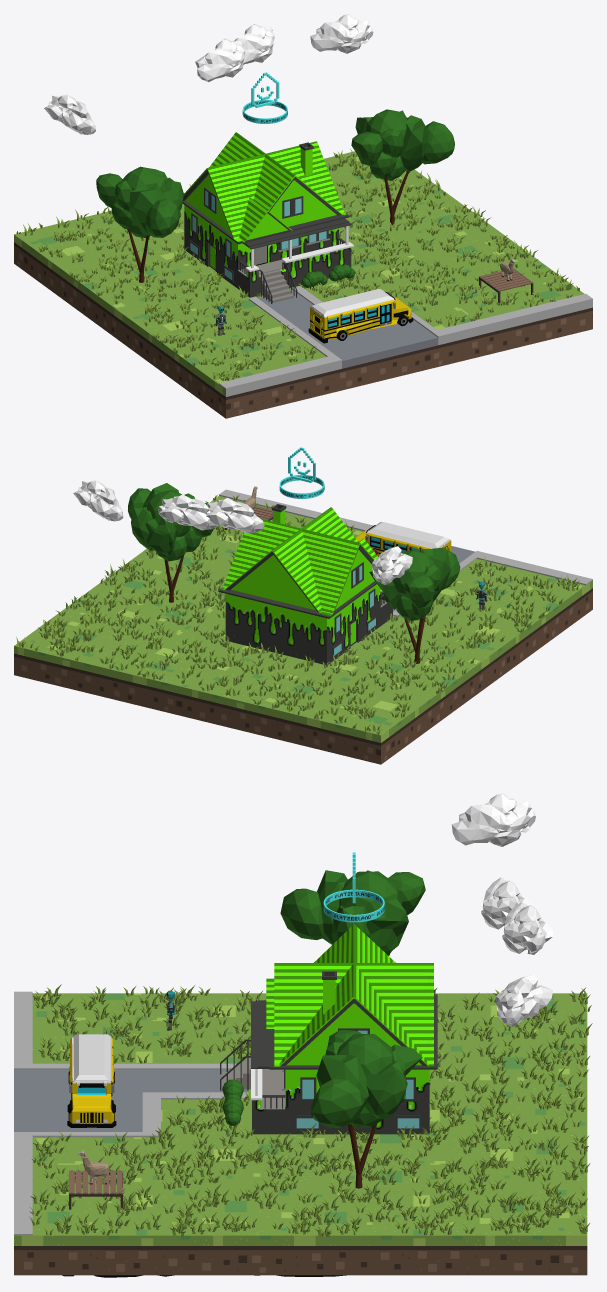
The picture shows the model from 3 angles, top to bottom: view 1: azimuth 30°, elevation 25°; view 2: azimuth 150°, elevation 25°; view 3: azimuth 270°, elevation 25°; orthographic projection. The views are drawn at different scales.
Visible parts, largest first — view 1: Cube.006, Cube.754, Circle.012_Grass_0.192, Cube.007, tree, tree.001, VEHICLES_SCHOOL_BUS, TYPE_PREMIUM, Cube.009; view 2: Cube.006, Cube.754, Circle.012_Grass_0.192, Cube.007, tree.001, tree, VEHICLES_SCHOOL_BUS, TYPE_PREMIUM; view 3: Cube.006, Circle.012_Grass_0.192, Cube.754, tree, Cube.007, tree.001, VEHICLES_SCHOOL_BUS, Cube.009, TYPE_PREMIUM.
Part boxes in pixels (<box>): Cube.006: <box>14,151,592,418</box>; Cube.754: <box>182,132,353,303</box>; Circle.012_Grass_0.192: <box>16,148,579,381</box>; Cube.007: <box>44,14,373,134</box>; tree: <box>351,109,454,225</box>; tree.001: <box>96,166,183,282</box>; VEHICLES_SCHOOL_BUS: <box>308,289,413,343</box>; TYPE_PREMIUM: <box>242,72,287,123</box>; Cube.009: <box>479,268,533,302</box>; Cube.006: <box>14,489,592,764</box>; Cube.754: <box>218,504,392,664</box>; Circle.012_Grass_0.192: <box>16,495,579,734</box>; Cube.007: <box>73,480,412,585</box>; tree.001: <box>369,547,460,663</box>; tree: <box>128,483,213,602</box>; VEHICLES_SCHOOL_BUS: <box>355,522,451,556</box>; TYPE_PREMIUM: <box>279,447,324,498</box>; Cube.006: <box>14,991,587,1275</box>; Circle.012_Grass_0.192: <box>29,984,592,1236</box>; Cube.754: <box>220,924,437,1134</box>; tree: <box>310,1029,422,1188</box>; Cube.007: <box>451,793,552,1026</box>; tree.001: <box>280,870,425,955</box>; VEHICLES_SCHOOL_BUS: <box>67,1034,116,1127</box>; Cube.009: <box>69,1170,122,1209</box>; TYPE_PREMIUM: <box>323,852,384,922</box>.
Size of the model in its own units: 4071 by 2273 by 4040.
Materials: 39 (5 with a texture image).
